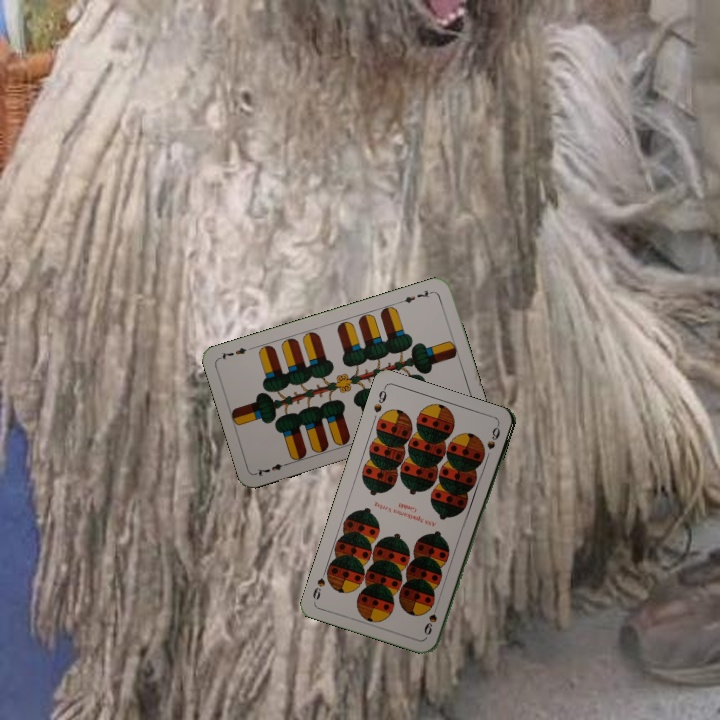E7: (396, 286, 436, 306), (252, 459, 292, 479)
S9: (421, 600, 441, 637), (370, 384, 389, 415)
